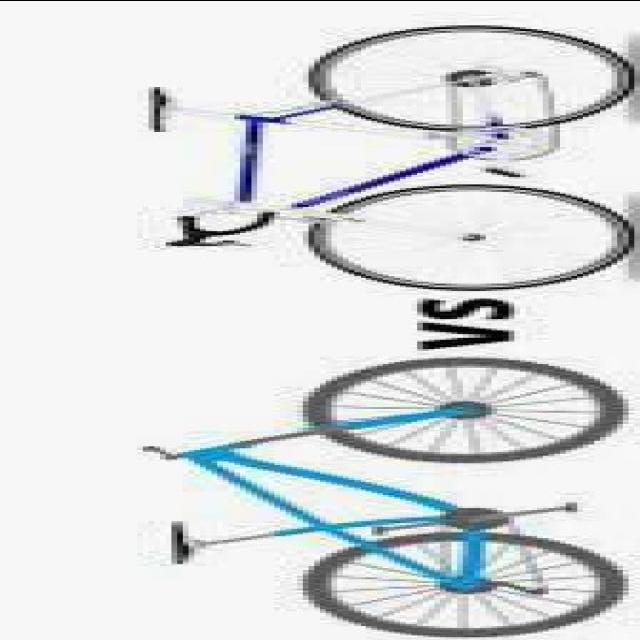bicycle: (138, 359, 630, 639), (149, 26, 640, 293)
